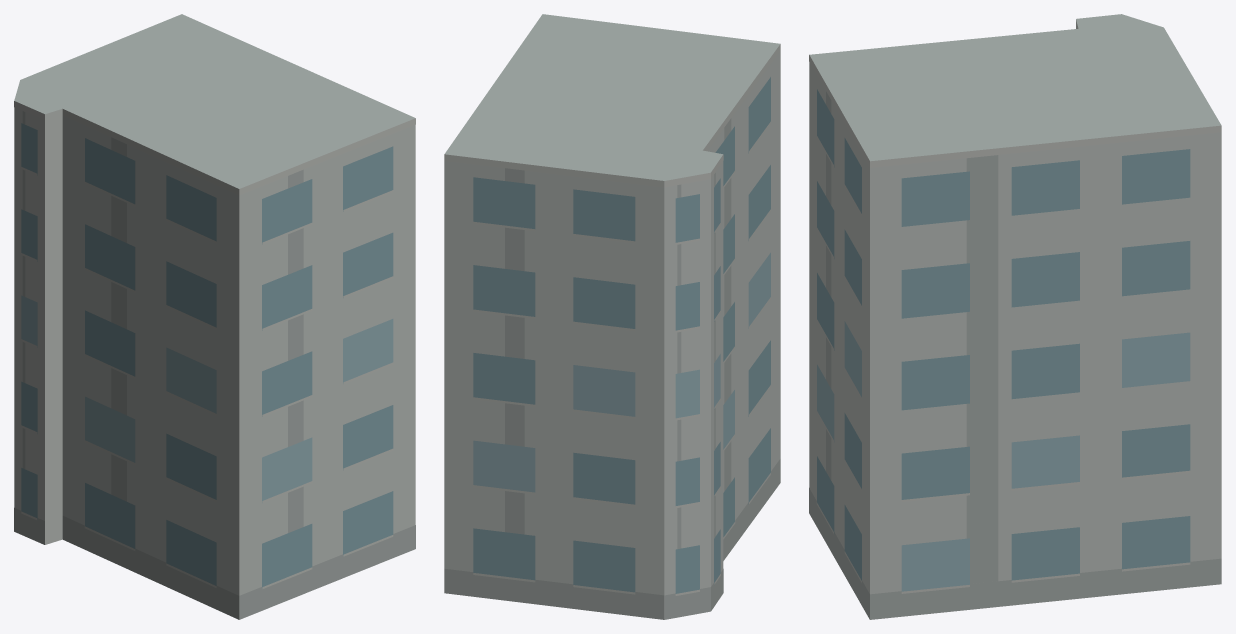
File: survey-upis-32467697.glb
The picture shows the model from 3 angles, left to right: view 1: azimuth 30°, elevation 25°; view 2: azimuth 150°, elevation 25°; view 3: azimuth 270°, elevation 25°; orthographic projection. The views are drawn at different scales.
Parts seen in each view (by area): view 1: survey-upis-32467697.tmp; view 2: survey-upis-32467697.tmp; view 3: survey-upis-32467697.tmp.
Part boxes in pixels (x1=…): survey-upis-32467697.tmp: x1=14, y1=14, x2=415, y2=619; survey-upis-32467697.tmp: x1=444, y1=14, x2=780, y2=619; survey-upis-32467697.tmp: x1=809, y1=14, x2=1221, y2=619.
Size of the model in its own units: 11.34 by 16.45 by 13.42.
